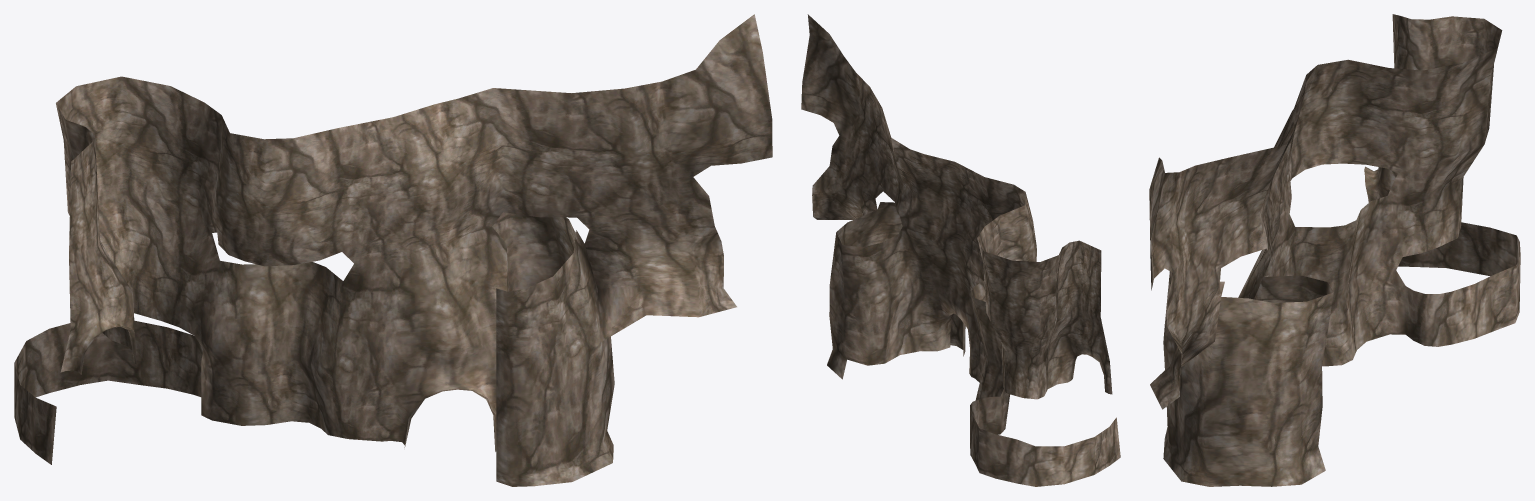
Rendered from EKH_GROTTO_PS_GR_OBJECT24.fbx.
3 views of the same model, side by side, from view 1: azimuth 30°, elevation 25°; view 2: azimuth 150°, elevation 25°; view 3: azimuth 270°, elevation 25° (orthographic). The views are drawn at different scales.
Visible parts, largest first — view 1: EKH_GROTTO_PS_GR_OBJECT24; view 2: EKH_GROTTO_PS_GR_OBJECT24; view 3: EKH_GROTTO_PS_GR_OBJECT24.
Part boxes in pixels (x1,y1,x2,y2): EKH_GROTTO_PS_GR_OBJECT24: (14, 14, 772, 486); EKH_GROTTO_PS_GR_OBJECT24: (801, 14, 1120, 486); EKH_GROTTO_PS_GR_OBJECT24: (1149, 14, 1520, 486).
Bounding box in the file's own units: 232912 × 161008 × 142489.
Materials: 1 (1 with a texture image).
